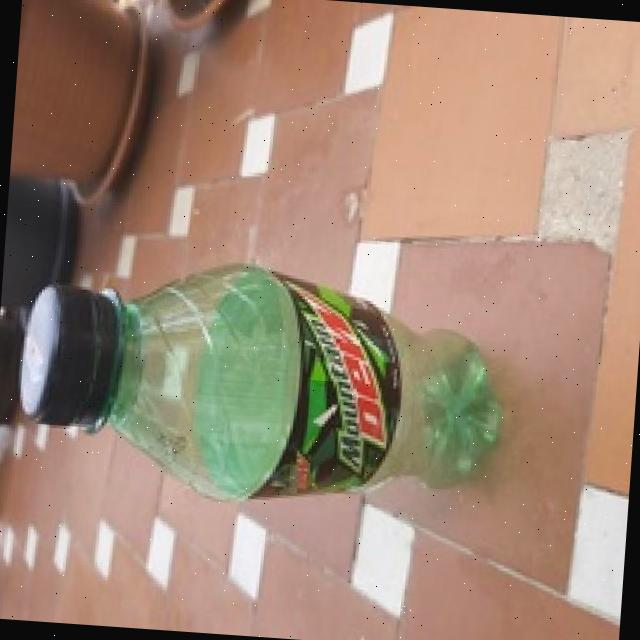bottle: (10, 244, 518, 527)
cap: (15, 274, 127, 436)
